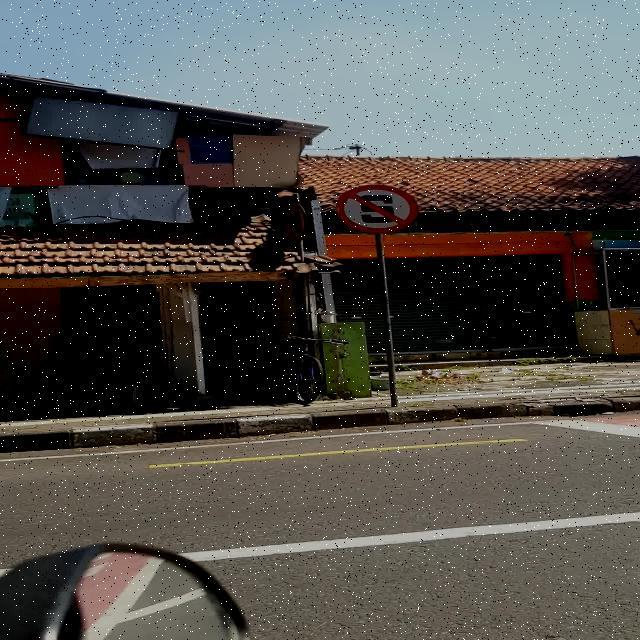Dilarang Berhenti: (336, 185, 417, 232)
